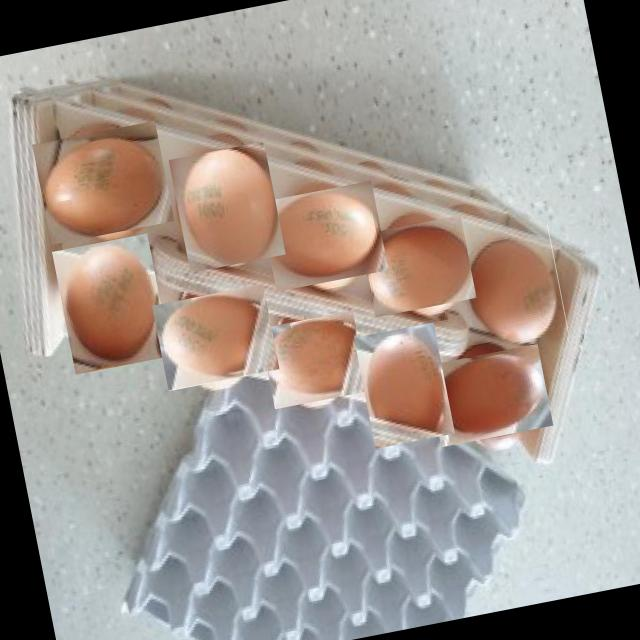eggs: (36, 116, 170, 250), (52, 233, 172, 376), (169, 141, 287, 274), (264, 176, 384, 297), (157, 278, 275, 396), (458, 224, 568, 350), (431, 338, 547, 453), (354, 322, 456, 449), (364, 211, 474, 321), (262, 308, 366, 412)
